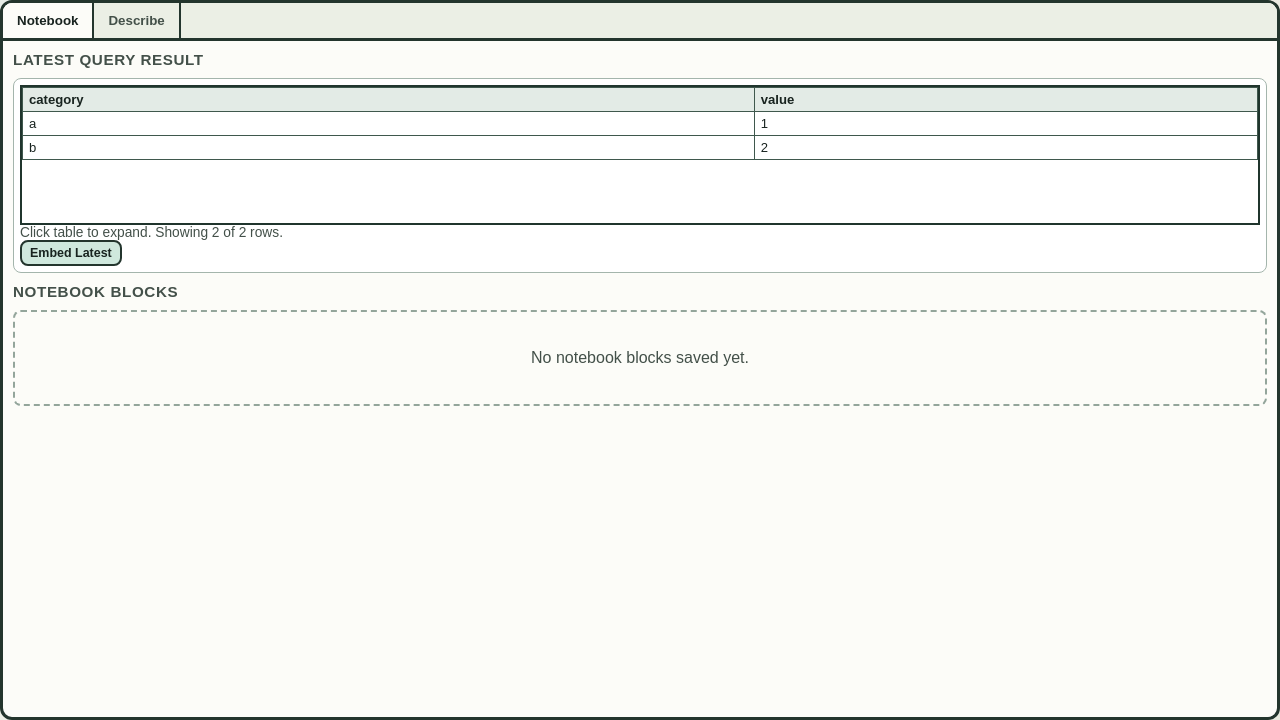
it: ResultsWindow › expands latest query result table on click
Click the button with aria-label "Expand latest query result" at x=640, y=176, box [13, 78, 1267, 273]
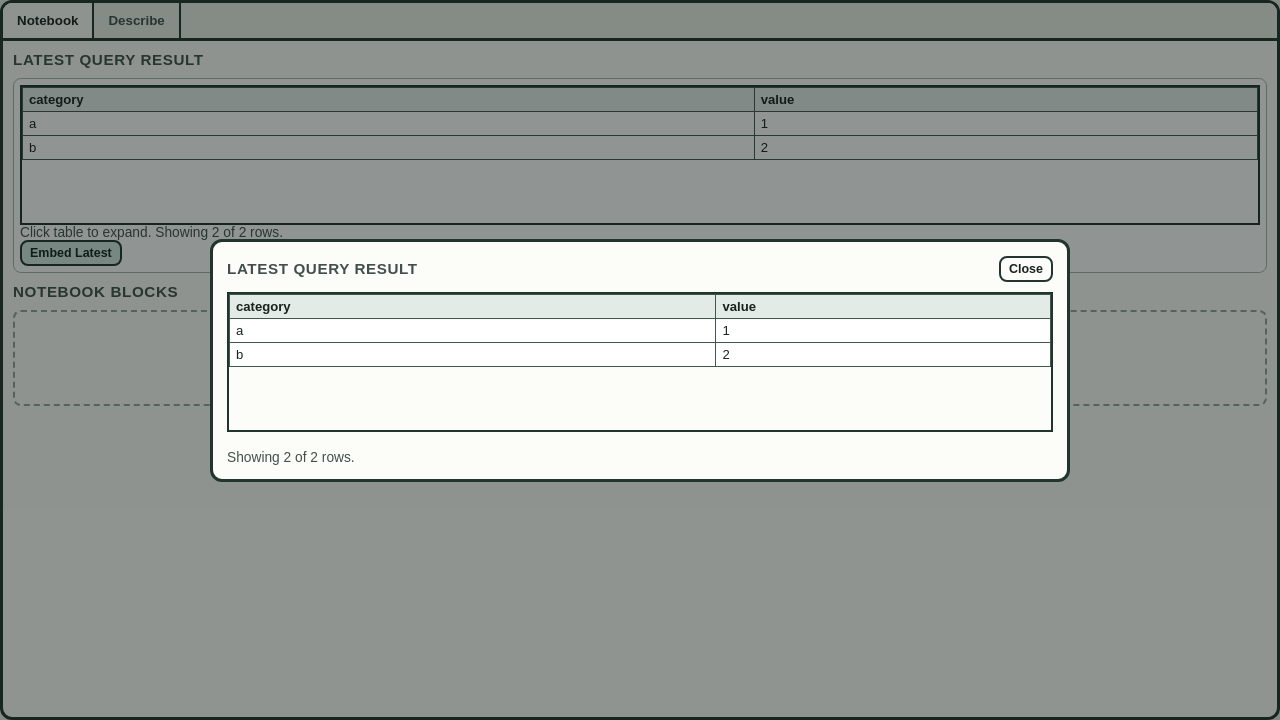
Check: the button "Close" is shown, box [999, 256, 1053, 282]
